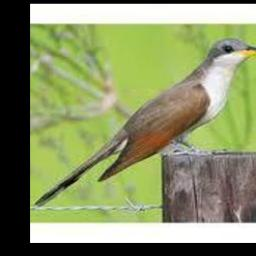Cuckoo: (36, 37, 256, 206)
